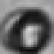correct: (0, 7, 54, 53)
